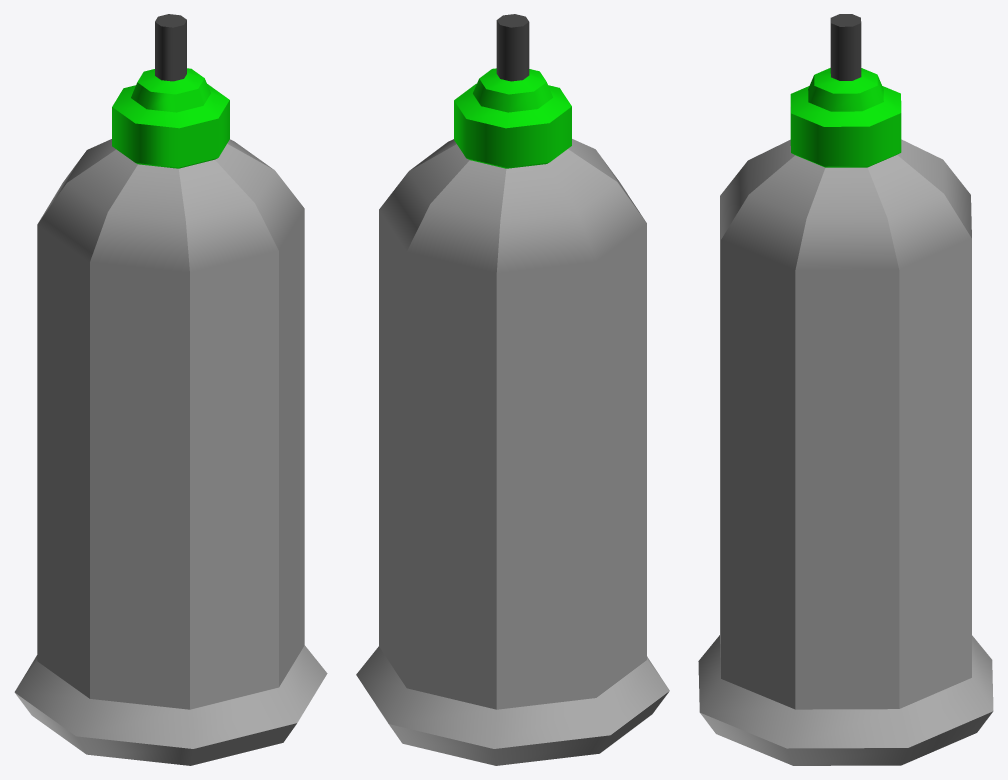
The model's file is Detergent_1.fbx.
3 renders of one model, left to right at view 1: azimuth 30°, elevation 25°; view 2: azimuth 150°, elevation 25°; view 3: azimuth 270°, elevation 25°, orthographic.
Parts seen in each view (by area): view 1: Kitchen_Detergent_1; view 2: Kitchen_Detergent_1; view 3: Kitchen_Detergent_1.
Boxes of the visible parts, x1,y1,x2,y2 form: Kitchen_Detergent_1: [14, 14, 327, 765]; Kitchen_Detergent_1: [356, 14, 669, 765]; Kitchen_Detergent_1: [698, 14, 993, 765].
Bounding box in the file's own units: 15.4 × 39.76 × 15.4.
